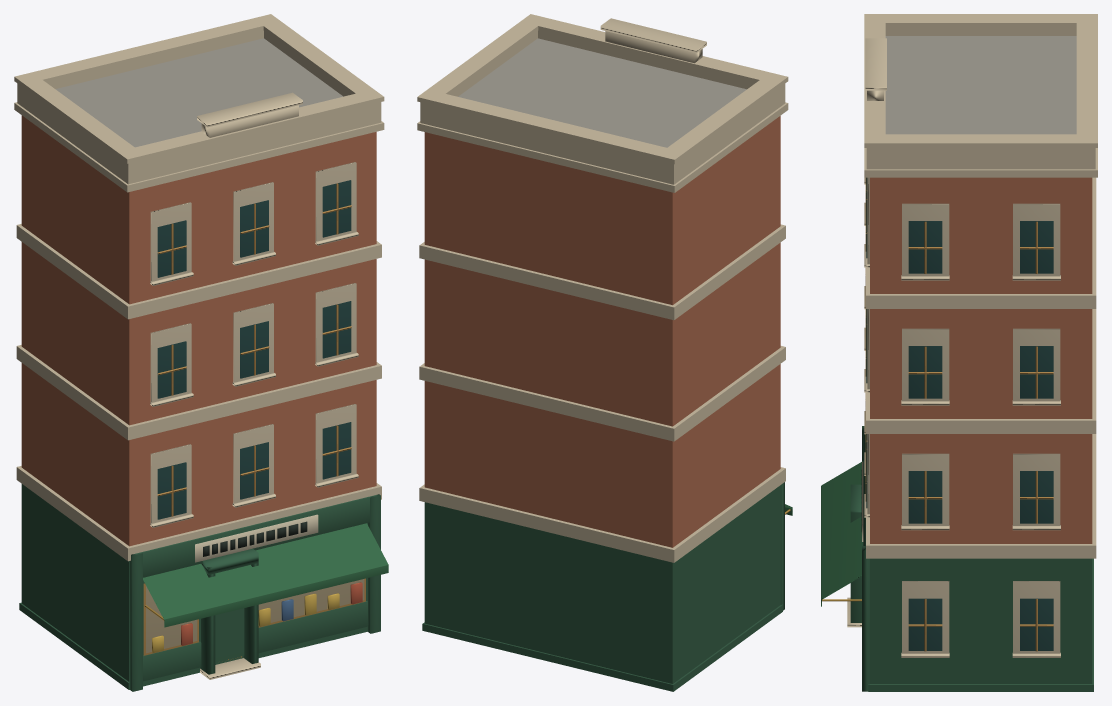
File: city_terra_4.glb
The picture shows the model from 3 angles, left to right: view 1: azimuth 30°, elevation 25°; view 2: azimuth 150°, elevation 25°; view 3: azimuth 270°, elevation 25°; orthographic projection. The views are drawn at different scales.
Parts seen in each view (by area): view 1: city_terra_4; view 2: city_terra_4; view 3: city_terra_4.
Part boxes in pixels (x1,y1,x2,y2): city_terra_4: [14, 14, 388, 691]; city_terra_4: [417, 14, 792, 691]; city_terra_4: [821, 14, 1097, 691].
Bounding box in the file's own units: 5.44 × 11.11 × 4.92.
